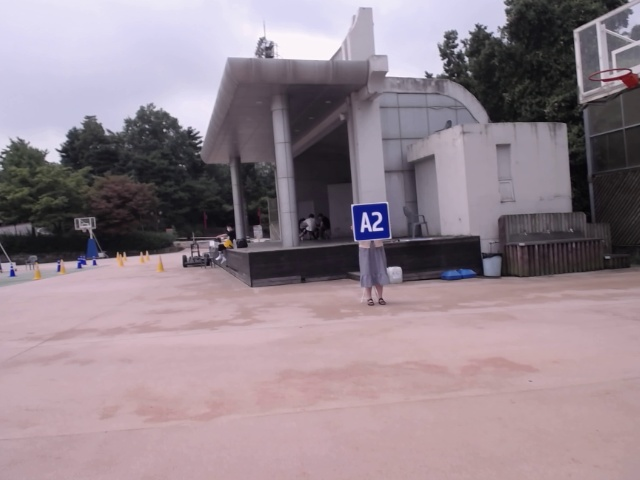delivery_a2: (351, 202, 391, 241)
